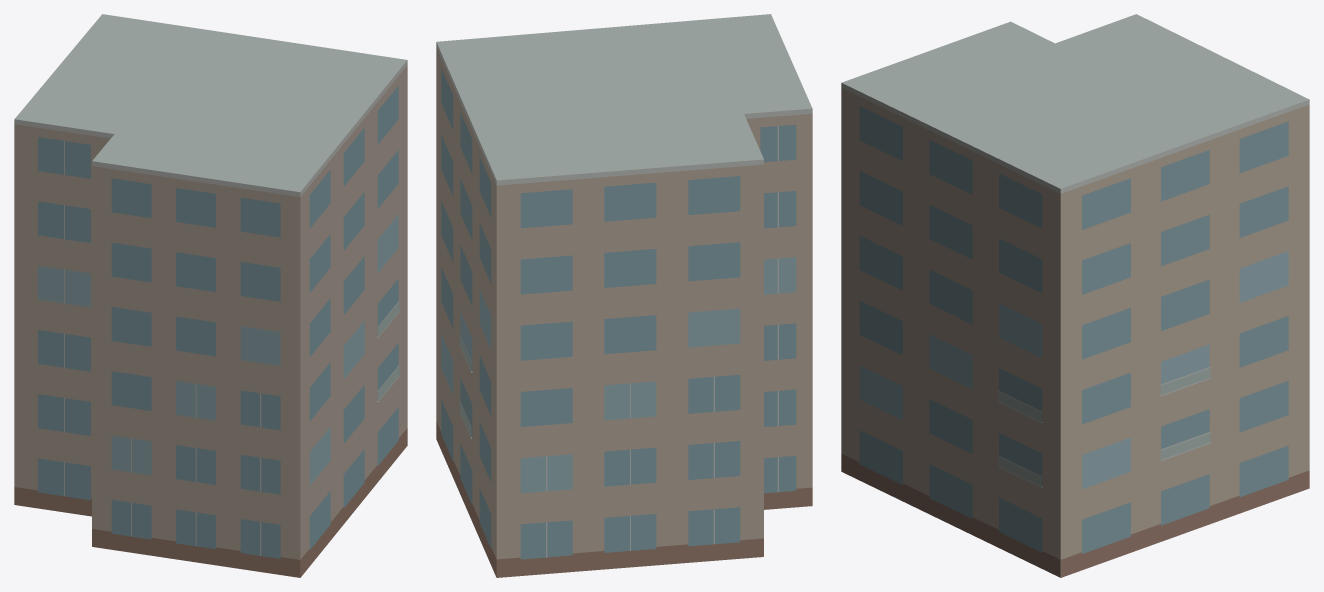
The model's file is survey-upis-32991901.glb.
The picture shows the model from 3 angles, left to right: view 1: azimuth 30°, elevation 25°; view 2: azimuth 150°, elevation 25°; view 3: azimuth 270°, elevation 25°; orthographic projection. The views are drawn at different scales.
Parts seen in each view (by area): view 1: survey-upis-32991901.tmp; view 2: survey-upis-32991901.tmp; view 3: survey-upis-32991901.tmp.
Part boxes in pixels (left/top/right/bottom): survey-upis-32991901.tmp: left=14, top=14, right=407, bottom=577; survey-upis-32991901.tmp: left=436, top=14, right=812, bottom=577; survey-upis-32991901.tmp: left=841, top=14, right=1309, bottom=577.
Size of the model in its own units: 18.39 by 19.05 by 20.79.
